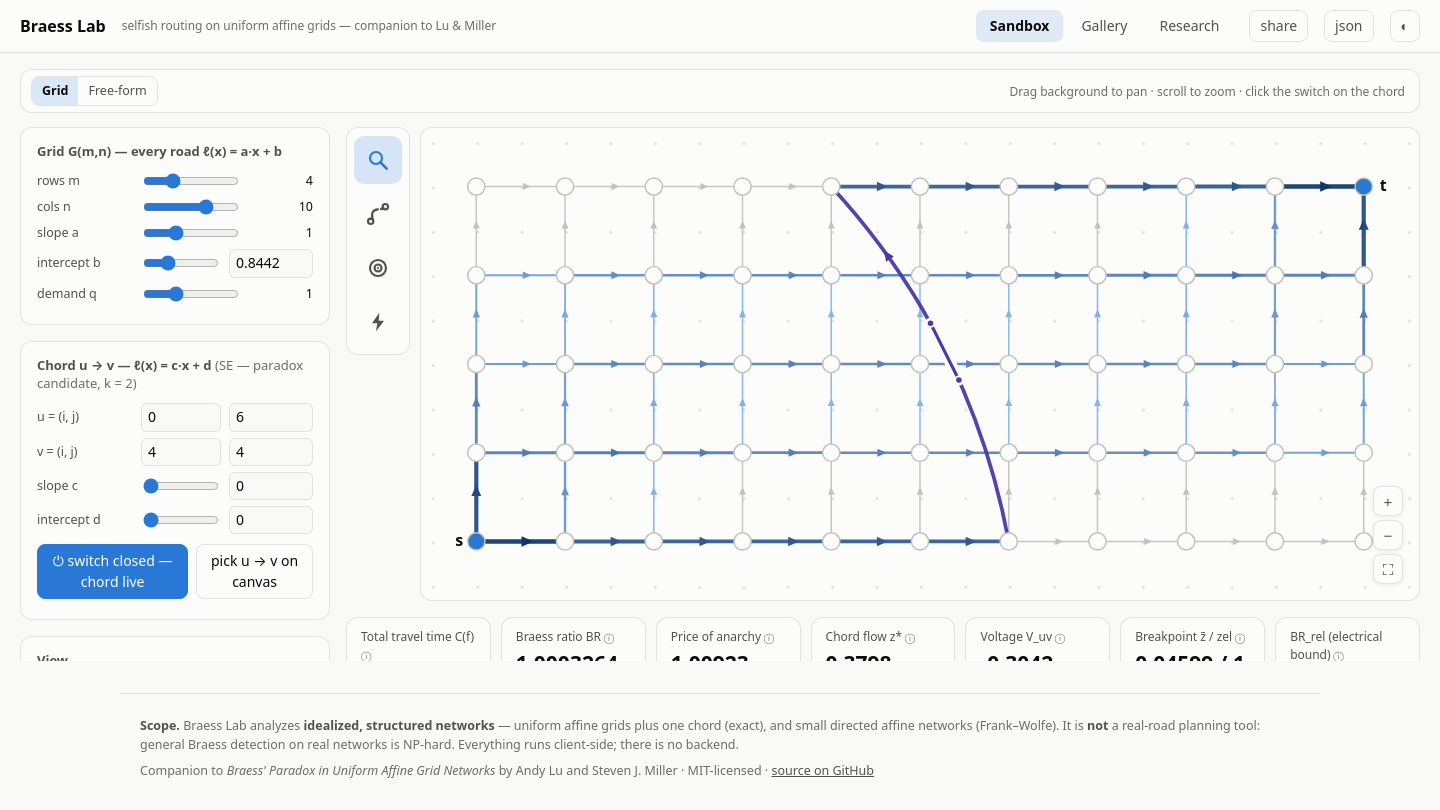
Test: gallery loads the classic Braess network into free-form mode
The width and height of the screenshot is (1440, 810).
Click the button "Gallery" at (1104, 26), box [1067,10,1142,42]
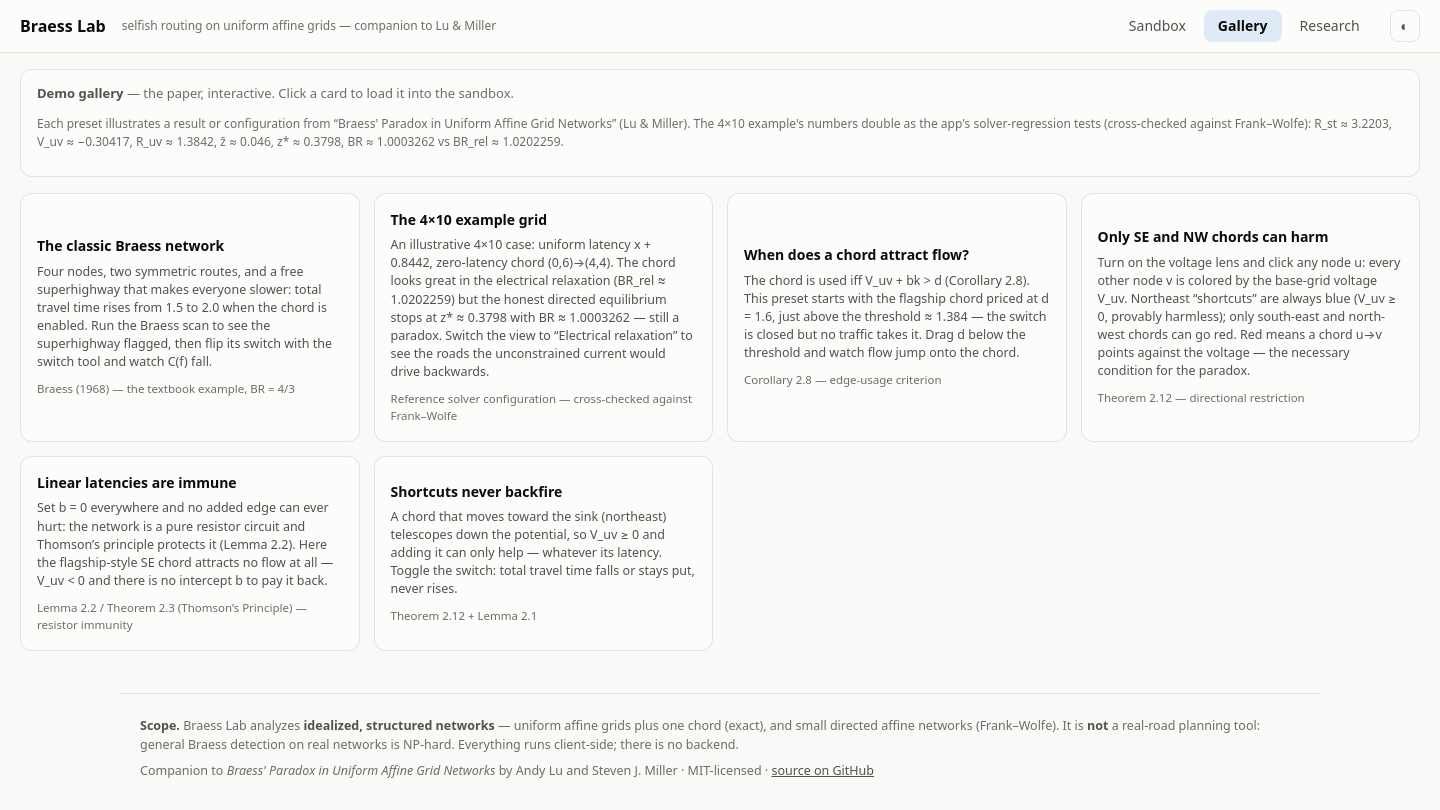
Click the heading "The classic Braess network" at (131, 246), box [37,236,224,255]
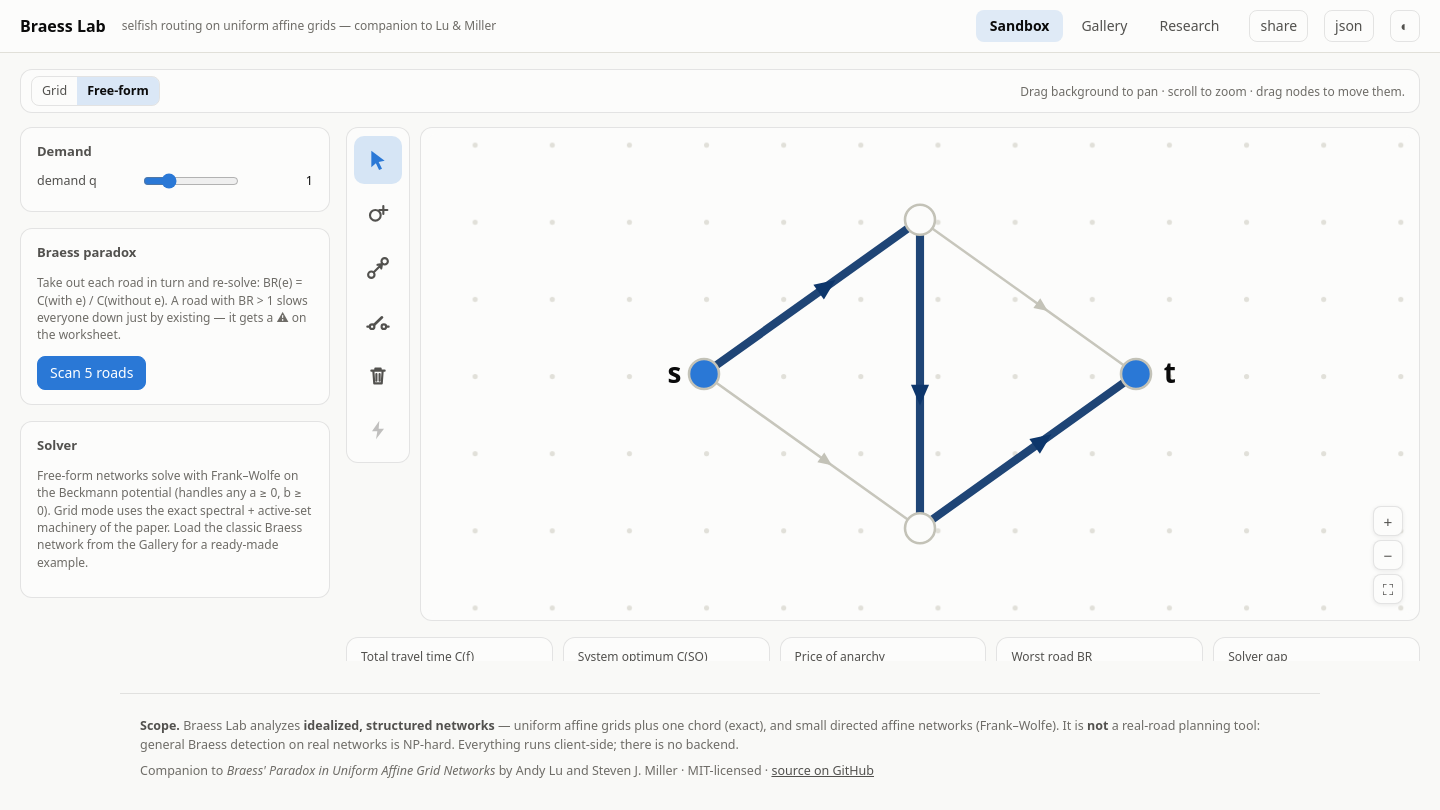
Now the text "Price of anarchy" is shown, box [795,648,885,661]
